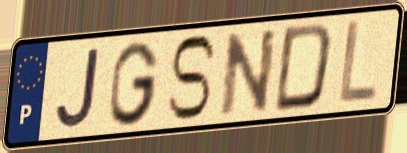D: (271, 20, 336, 115)
G: (107, 38, 162, 129)
J: (53, 45, 103, 131)
L: (336, 18, 379, 106)
N: (218, 25, 280, 120)
S: (164, 32, 220, 124)
